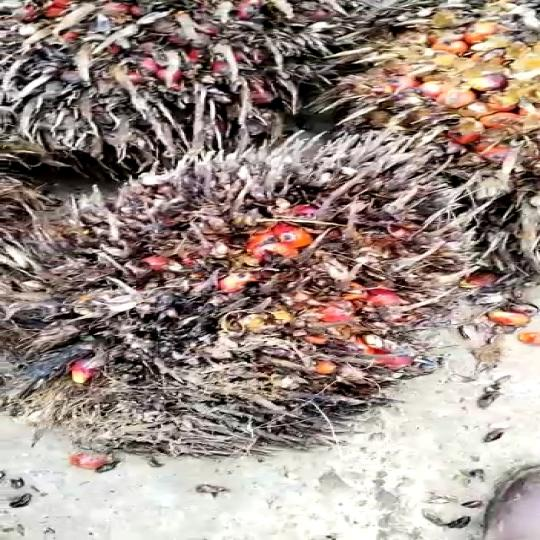terlalu masak: (0, 124, 520, 462)
